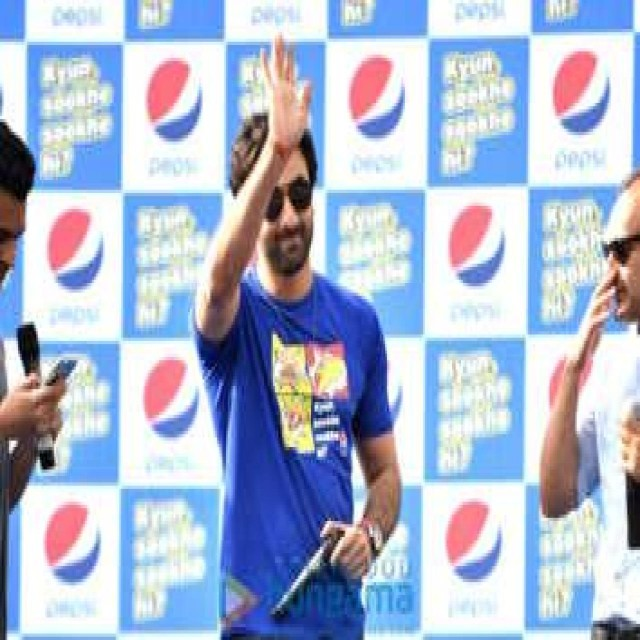pepsi: (143, 51, 206, 152), (44, 202, 108, 294), (548, 45, 610, 139), (341, 48, 406, 137), (43, 500, 102, 588), (446, 202, 510, 283), (141, 356, 201, 442), (445, 503, 506, 583)
